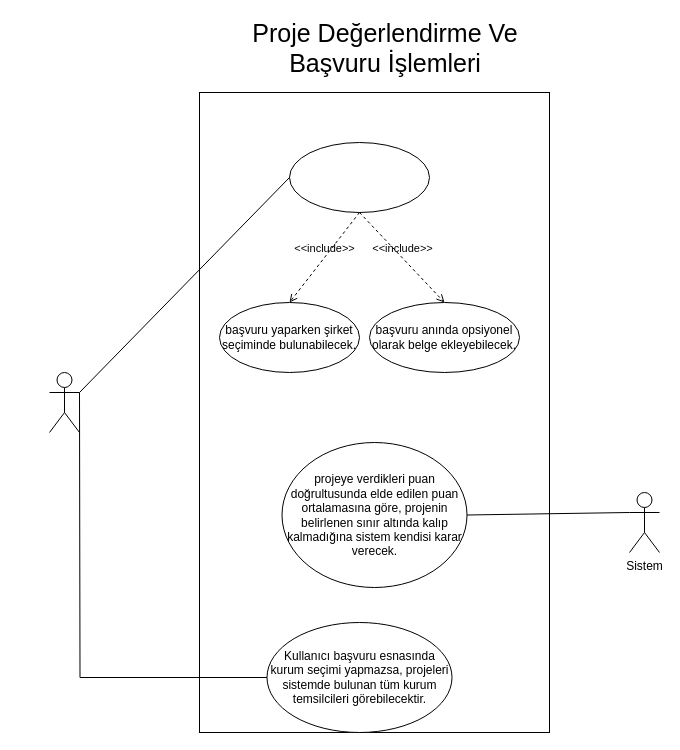
The diagram is 680 pixels wide and 750 high, and some of its shapes have lost their labels. The shapes that lost their labels are listed below. From the top down, each one's centre as x and y in pixels, then its label:
(x=359, y=177): başvuruda bulunabilecek.
(x=64, y=402): Bireysel Kullanıcı
